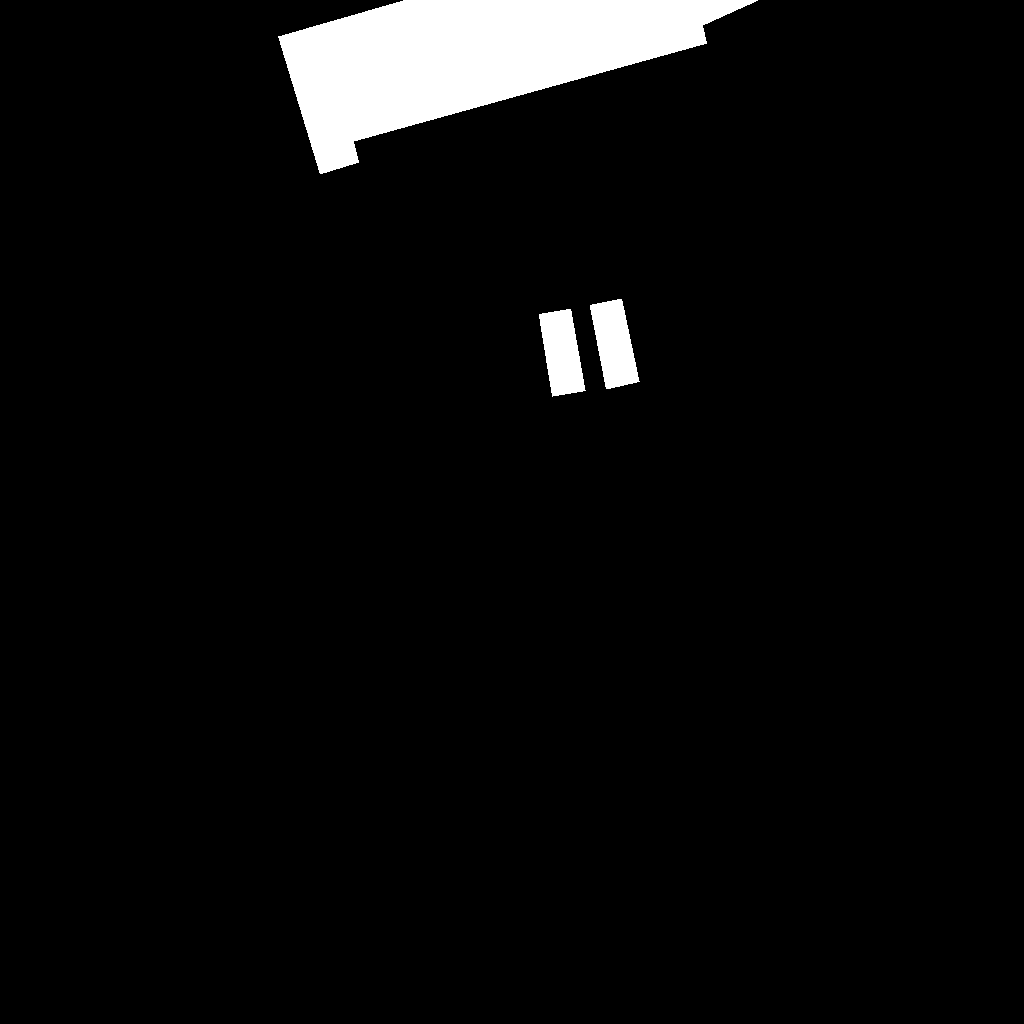building: (278, 0, 760, 175), (590, 299, 640, 390), (539, 309, 586, 397)
